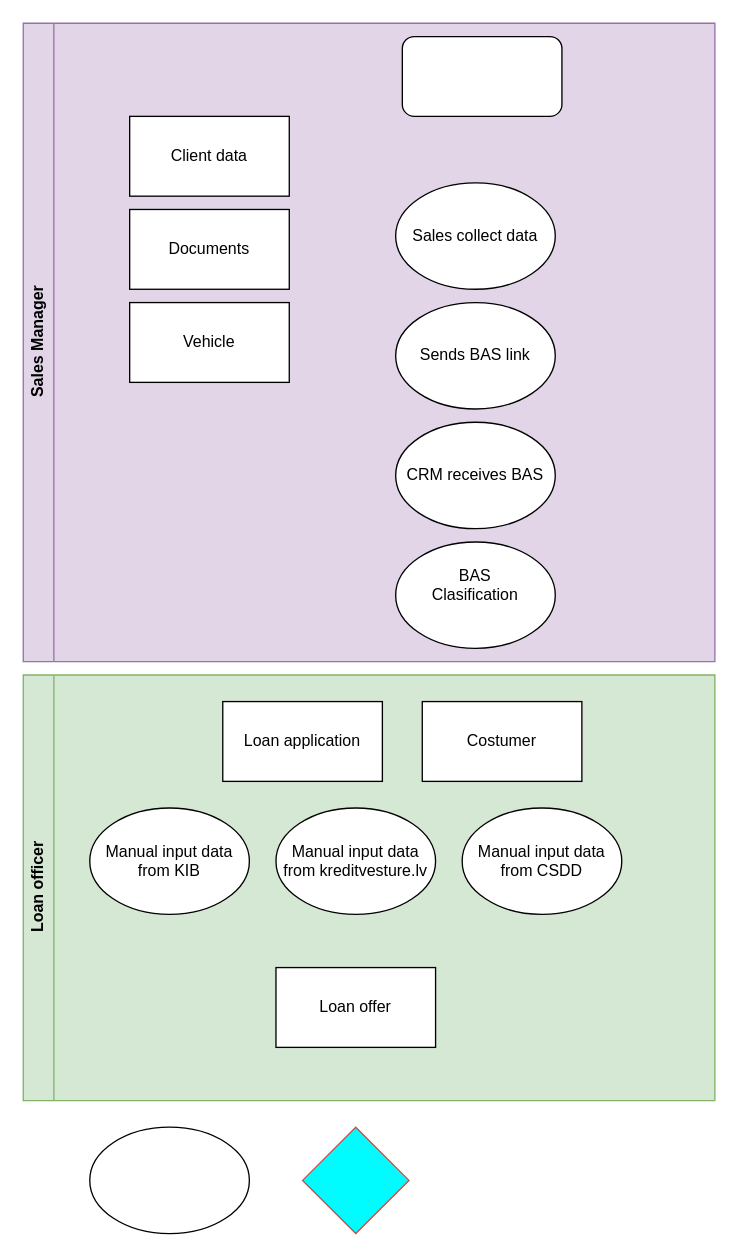
This 738x1257 diagram has some shape labels left out. The shapes that lost their labels are listed below. From the top down, each one's centre as x and y in pixels, then its label:
At pixel 481 75: "Lead".
At pixel 168 1180: "Sales offered to other loan providers".
At pixel 355 1180: "Costumer decision".
